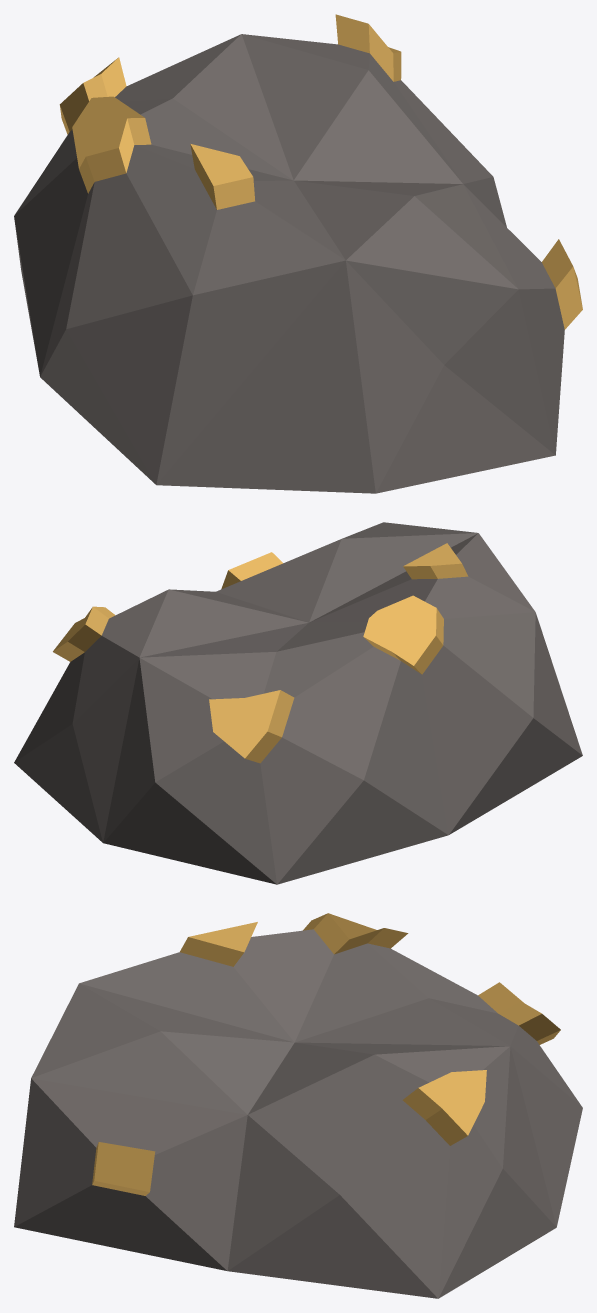
The model's file is goldmine2.fbx.
3 views of the same model, one above another, from view 1: azimuth 30°, elevation 25°; view 2: azimuth 150°, elevation 25°; view 3: azimuth 270°, elevation 25° (orthographic). The views are drawn at different scales.
Parts seen in each view (by area): view 1: goldmine2; view 2: goldmine2; view 3: goldmine2.
Part boxes in pixels (<box>): goldmine2: <box>14,14,582,493</box>; goldmine2: <box>14,522,582,884</box>; goldmine2: <box>14,913,582,1298</box>.
Size of the model in its own units: 5.37 by 2.55 by 6.06.
